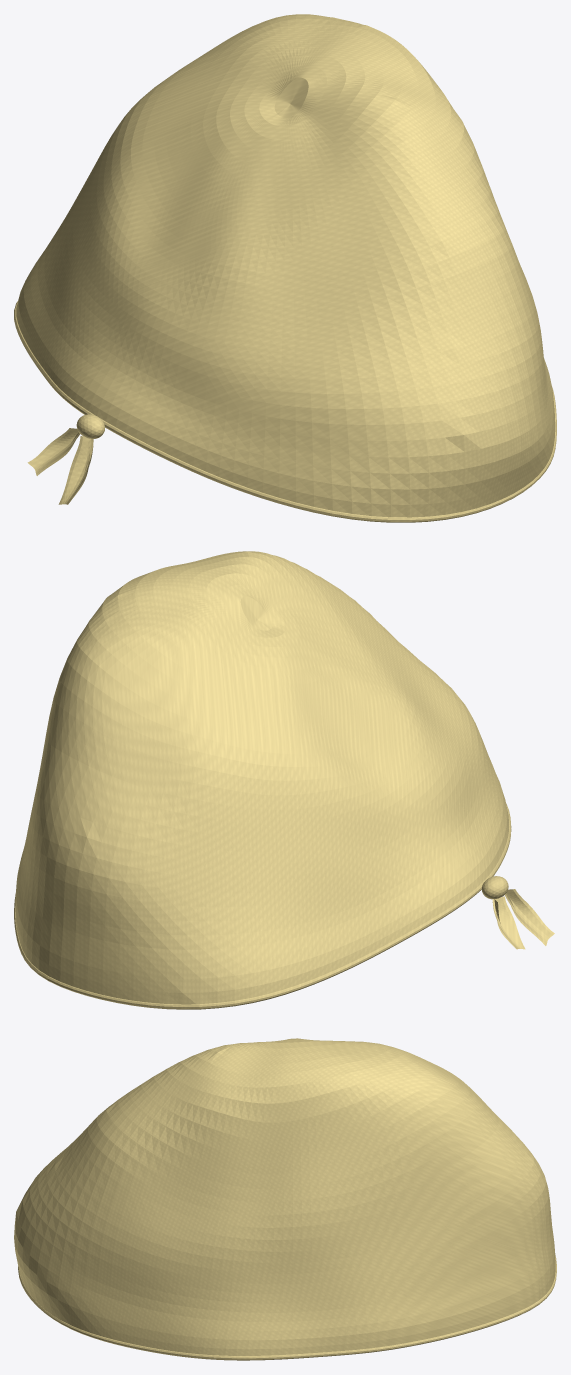
The model's file is side_h_hanabi_headcloth.glb.
The picture shows the model from 3 angles, top to bottom: view 1: azimuth 30°, elevation 25°; view 2: azimuth 150°, elevation 25°; view 3: azimuth 270°, elevation 25°; orthographic projection. The views are drawn at different scales.
Visible parts, largest first — view 1: woven_cloth, folded_edge, wrap_ties; view 2: woven_cloth, folded_edge, wrap_ties; view 3: woven_cloth, folded_edge.
Part boxes in pixels (box(x1,y1,x2,y2)): woven_cloth: box(16, 14, 555, 517); folded_edge: box(14, 301, 556, 522); wrap_ties: box(27, 428, 93, 504); woven_cloth: box(15, 551, 508, 1004); folded_edge: box(14, 803, 511, 1009); wrap_ties: box(492, 889, 554, 949); woven_cloth: box(14, 1038, 555, 1355); folded_edge: box(18, 1255, 556, 1360).
Bounding box in the file's own units: 16.45 × 11.04 × 19.99.
Materials: 4 (4 with a texture image).
